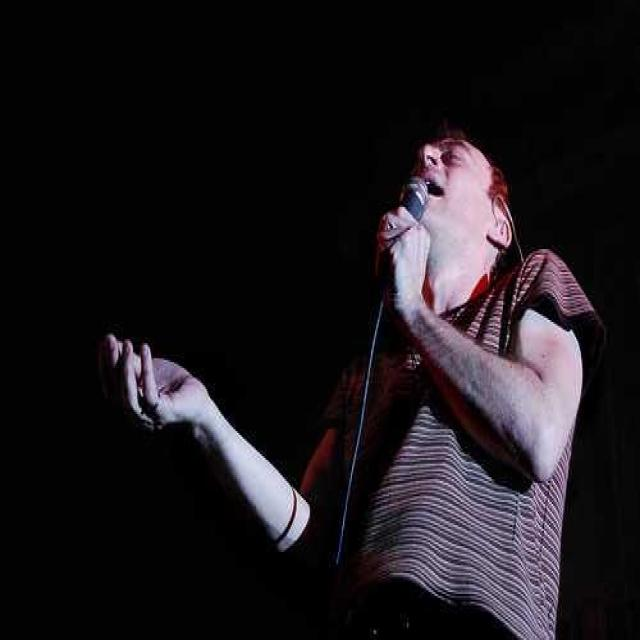microphone: (377, 177, 431, 299)
